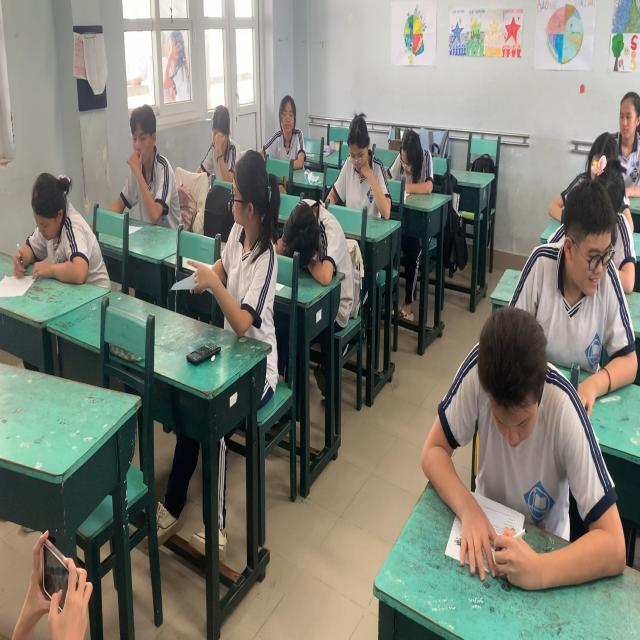cheating: (542, 181, 640, 402), (222, 156, 278, 340)
not_cheating: (427, 302, 616, 599), (23, 170, 86, 284), (124, 105, 173, 232), (340, 119, 384, 218), (276, 180, 325, 266), (388, 125, 434, 198), (270, 91, 305, 170), (205, 100, 232, 180)
